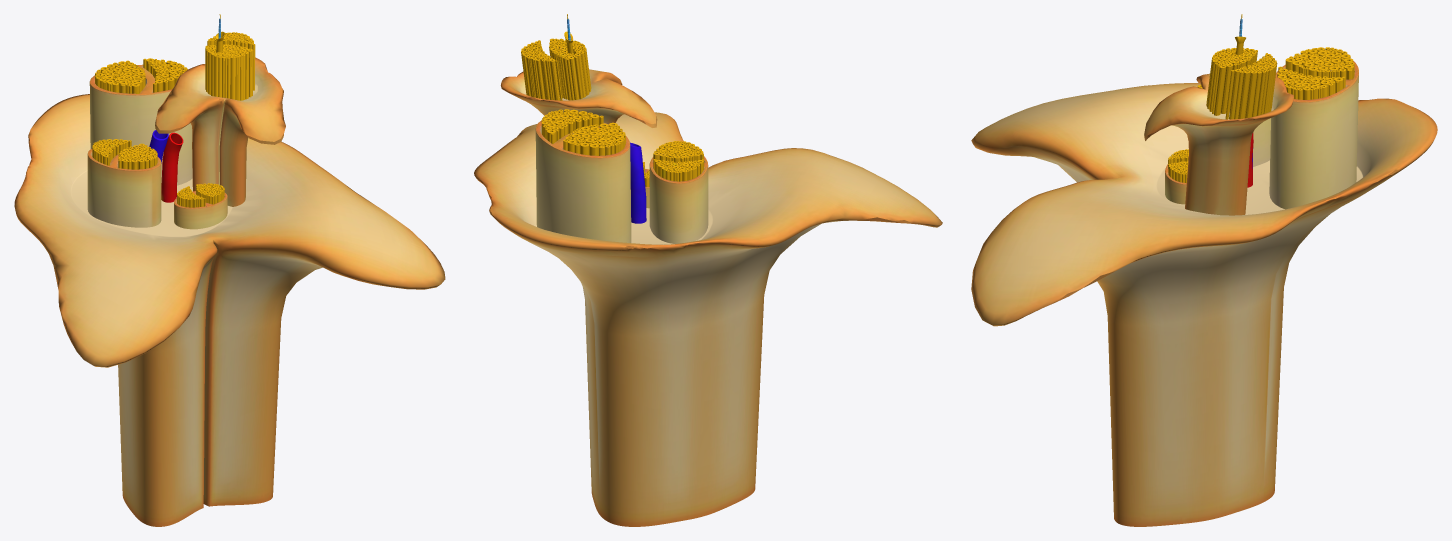
Rendered from nerve-cross-section-lite.glb.
3 renders of one model, left to right at view 1: azimuth 30°, elevation 25°; view 2: azimuth 150°, elevation 25°; view 3: azimuth 270°, elevation 25°, orthographic. The views are drawn at different scales.
Visible parts, largest first — view 1: nerve 1_nerve 1_0, nerve 2_nerve2_0; view 2: nerve 1_nerve 1_0, nerve 2_nerve2_0; view 3: nerve 1_nerve 1_0, nerve 2_nerve2_0.
Boxes of the visible parts, box(x1,y1,x2,y2) form: nerve 1_nerve 1_0: box(14, 57, 445, 526); nerve 2_nerve2_0: box(92, 14, 255, 207); nerve 1_nerve 1_0: box(474, 69, 942, 526); nerve 2_nerve2_0: box(521, 14, 704, 223); nerve 1_nerve 1_0: box(971, 61, 1437, 526); nerve 2_nerve2_0: box(1168, 14, 1354, 187).
Size of the model in its own units: 1.56 by 1.82 by 1.51.
2 materials, 2 textured.
